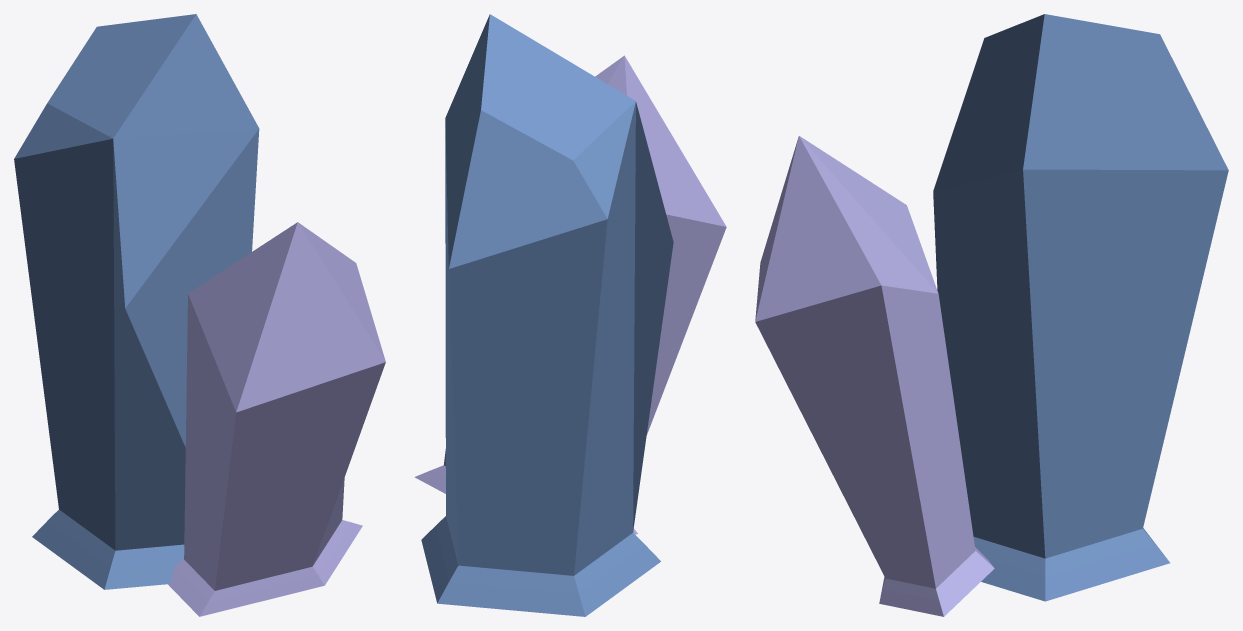
The model's file is Crystal_2.fbx.
The picture shows the model from 3 angles, left to right: view 1: azimuth 30°, elevation 25°; view 2: azimuth 150°, elevation 25°; view 3: azimuth 270°, elevation 25°; orthographic projection. The views are drawn at different scales.
Parts seen in each view (by area): view 1: Icosphere.010, Icosphere.004; view 2: Icosphere.010, Icosphere.004; view 3: Icosphere.010, Icosphere.004.
Boxes of the visible parts, <box> form: Icosphere.010: <box>14,14,259,589</box>; Icosphere.004: <box>168,222,385,616</box>; Icosphere.010: <box>421,14,673,616</box>; Icosphere.004: <box>414,55,726,534</box>; Icosphere.010: <box>933,14,1228,601</box>; Icosphere.004: <box>755,136,994,616</box>.
Size of the model in its own units: 110 by 210 by 159.
